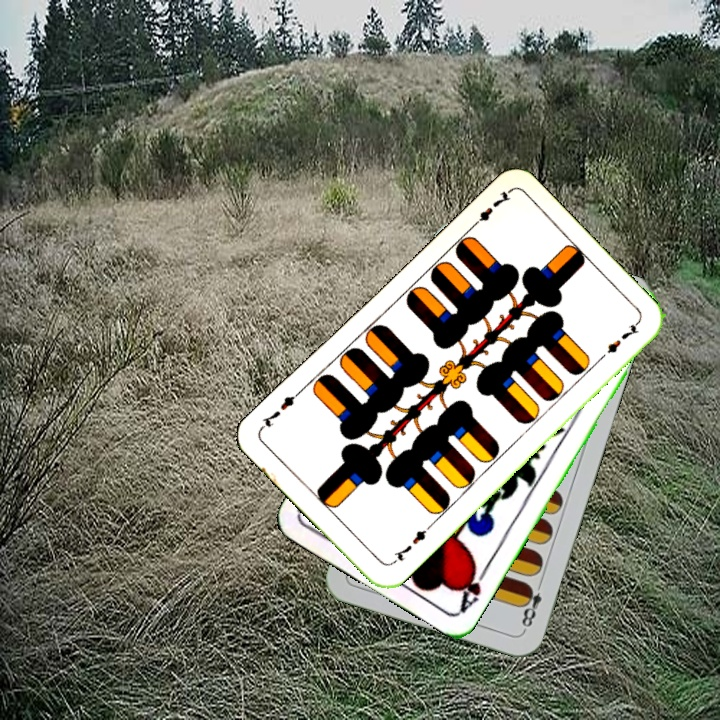E7: (466, 186, 514, 232), (387, 521, 433, 567)
E8: (517, 576, 546, 633)
HA: (455, 559, 492, 615)
